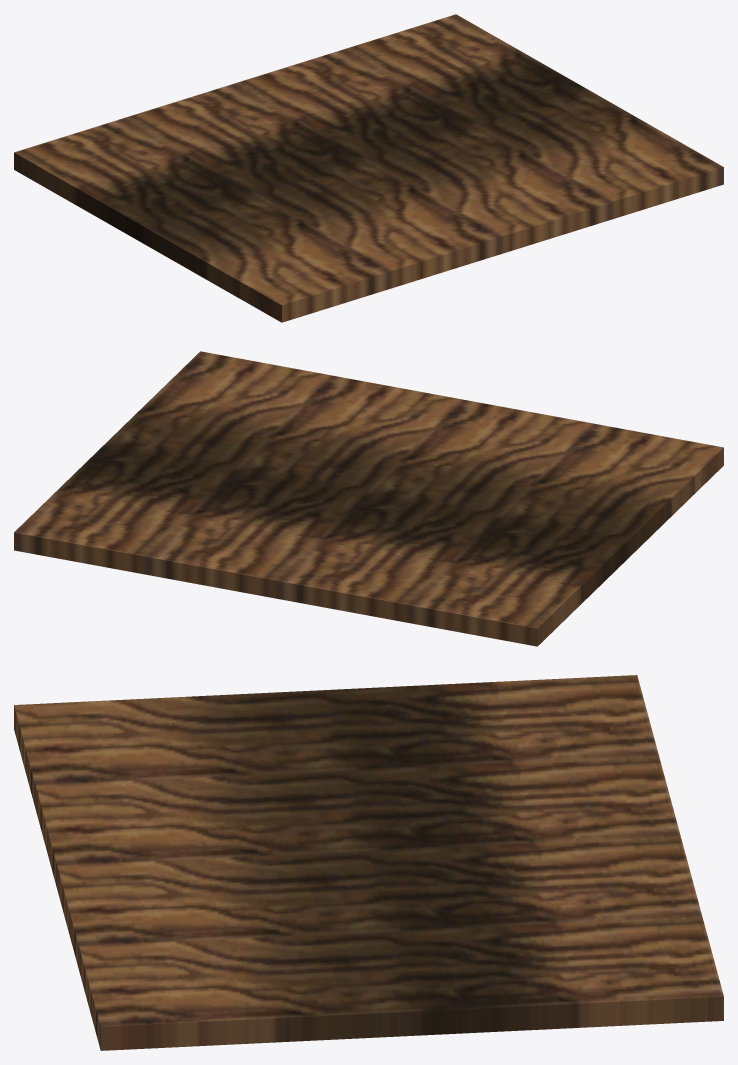
File: SWORDLIGHT20_MAINCAVPLAT02CONV03.fbx
3 renders of one model, top to bottom at view 1: azimuth 30°, elevation 25°; view 2: azimuth 150°, elevation 25°; view 3: azimuth 270°, elevation 25°, orthographic. The views are drawn at different scales.
Visible parts, largest first — view 1: SWORDLIGHT20_MAINCAVPLAT02CONV03; view 2: SWORDLIGHT20_MAINCAVPLAT02CONV03; view 3: SWORDLIGHT20_MAINCAVPLAT02CONV03.
Boxes of the visible parts, x1,y1,x2,y2 form: SWORDLIGHT20_MAINCAVPLAT02CONV03: [14, 14, 723, 322]; SWORDLIGHT20_MAINCAVPLAT02CONV03: [14, 351, 723, 646]; SWORDLIGHT20_MAINCAVPLAT02CONV03: [14, 675, 723, 1050].
Bounding box in the file's own units: 78097 × 2500 × 66626.
Materials: 1 (1 with a texture image).
